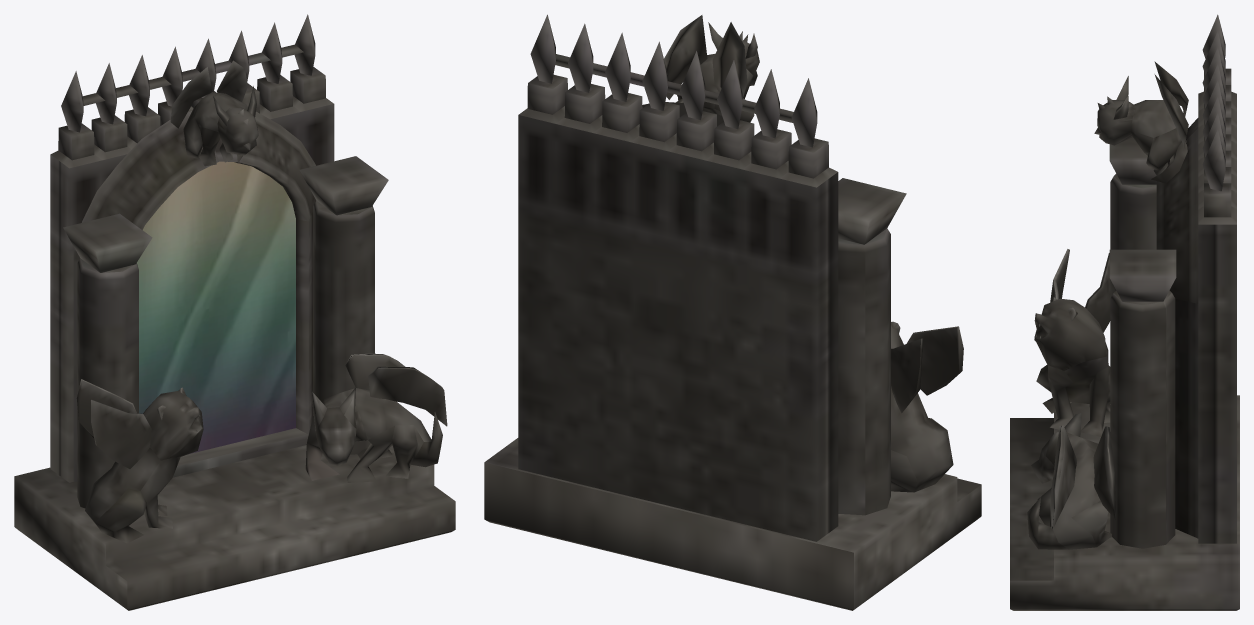
3 views of the same model, side by side, from view 1: azimuth 30°, elevation 25°; view 2: azimuth 150°, elevation 25°; view 3: azimuth 270°, elevation 25° (orthographic). The views are drawn at different scales.
Size of the model in its own units: 7.47 by 9.31 by 4.18.
2 materials, 2 textured.
